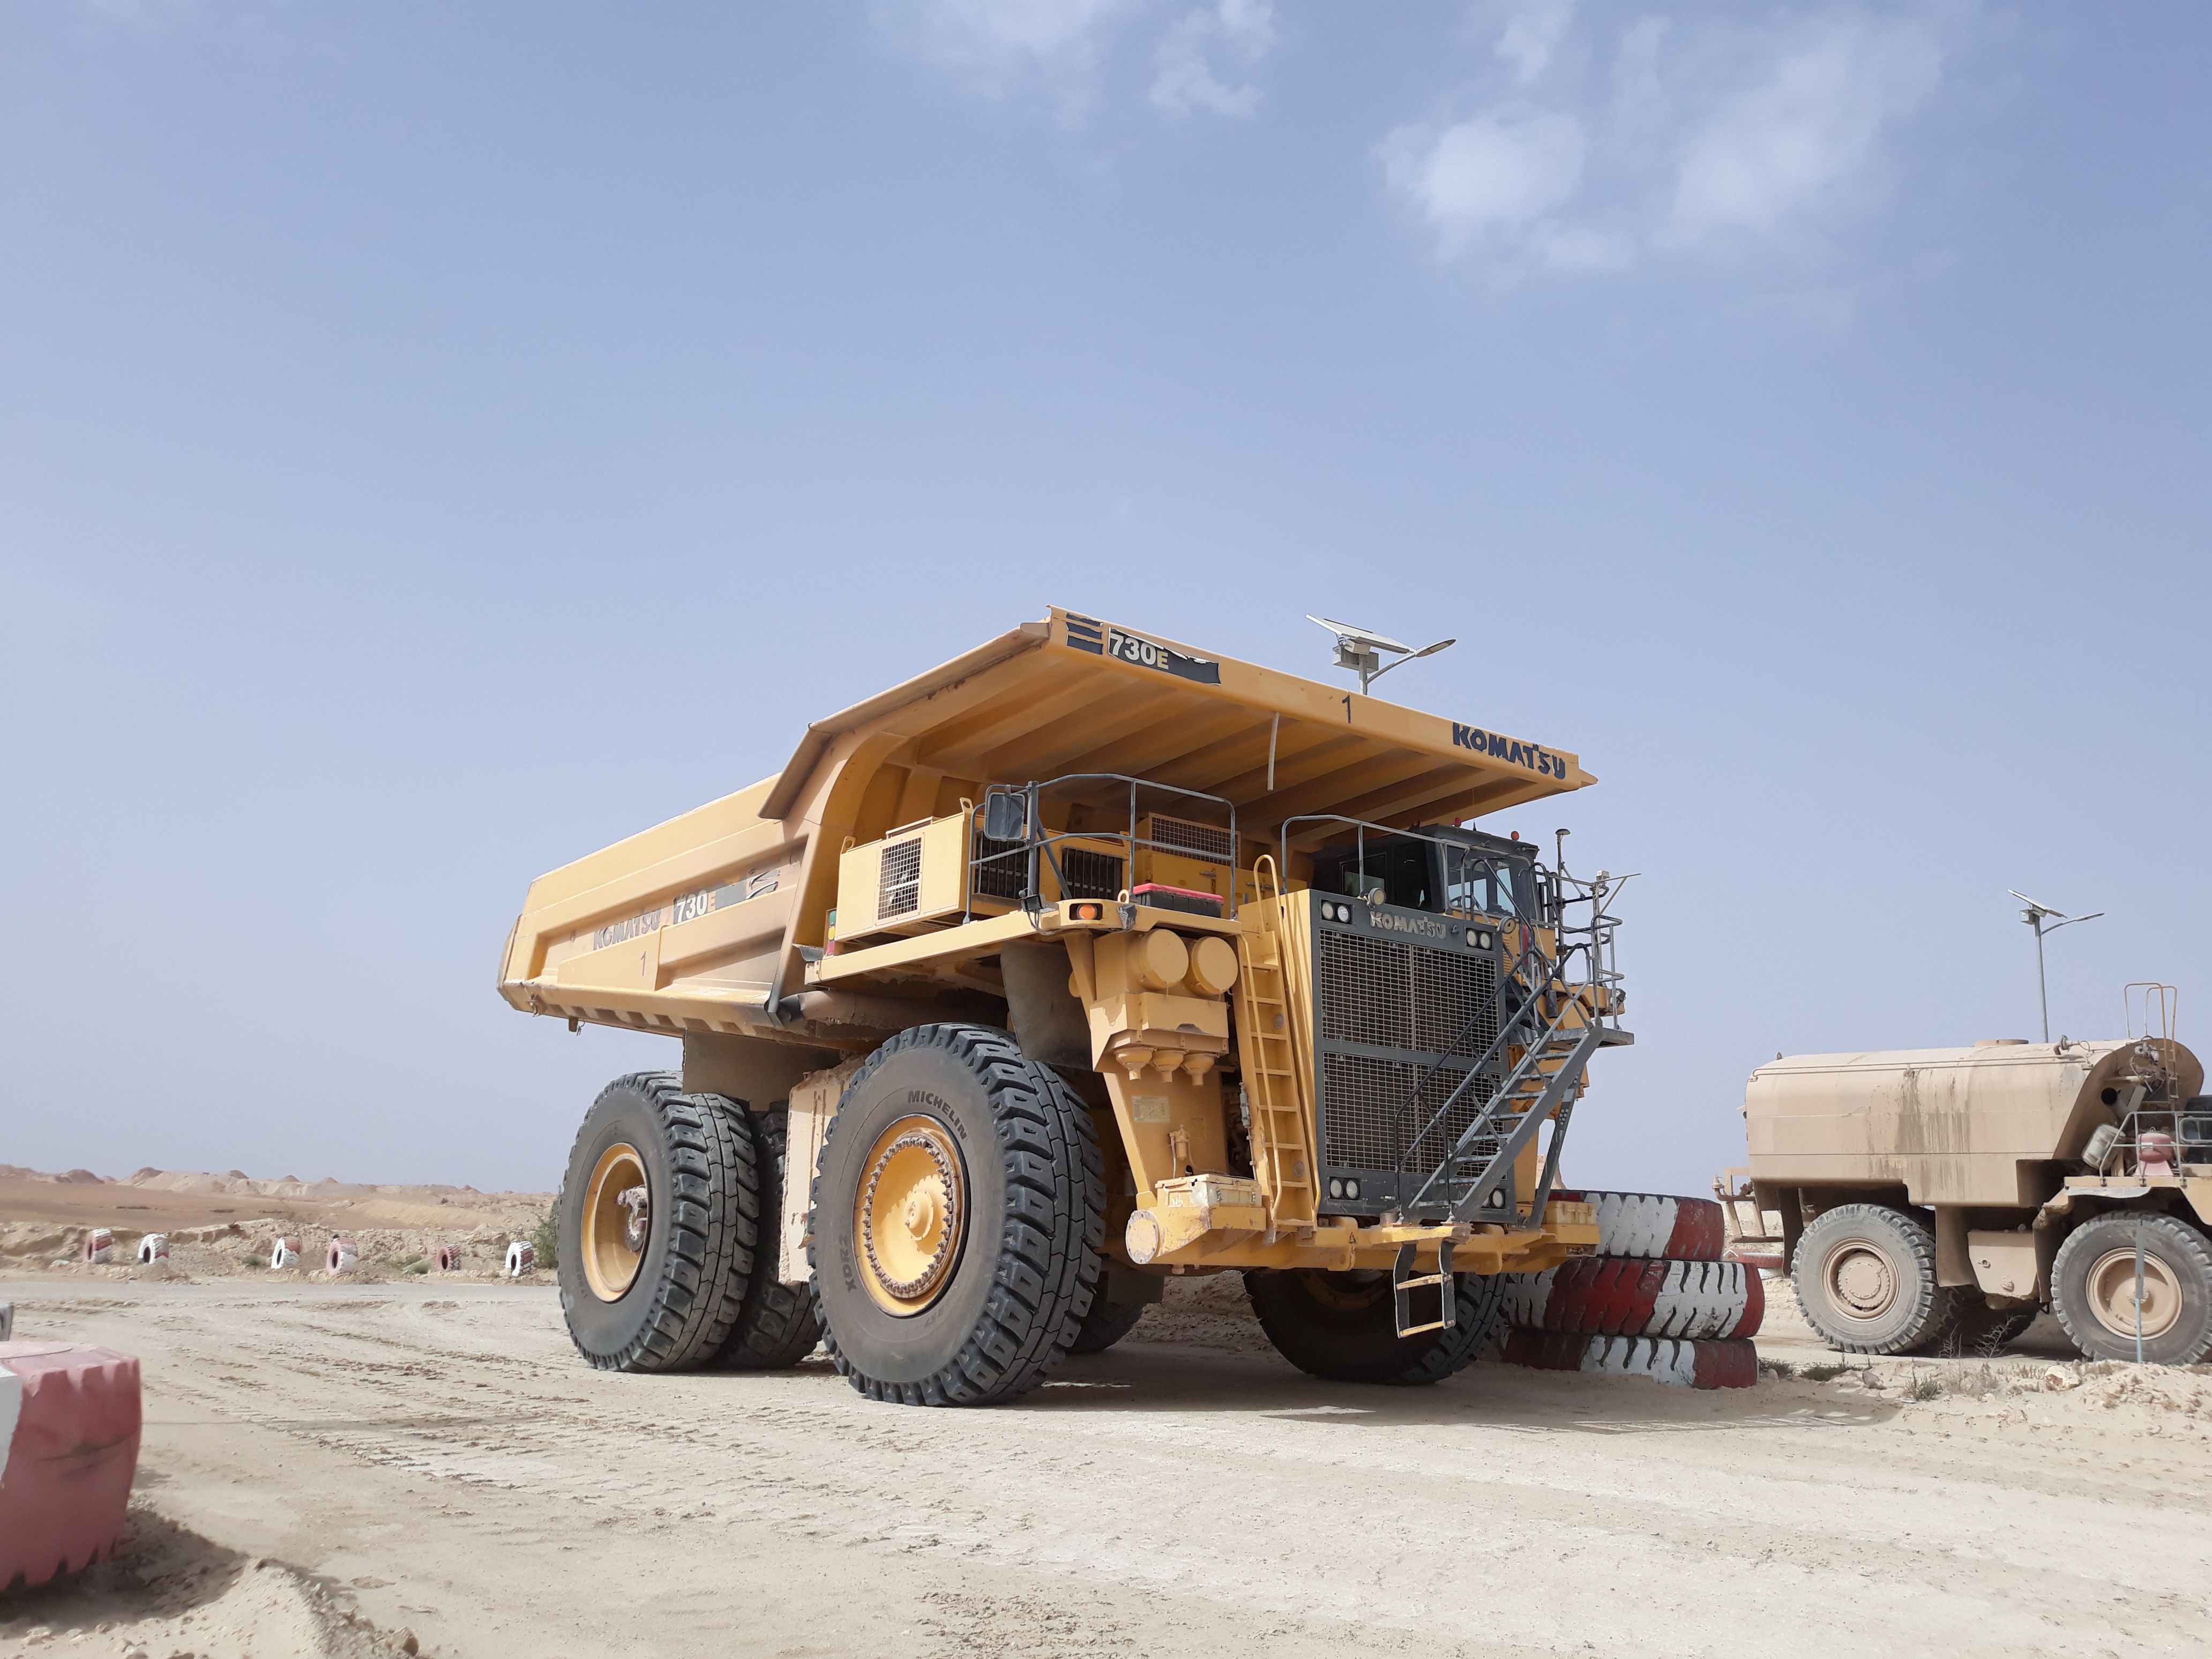camion: (493, 586, 1648, 1453)
